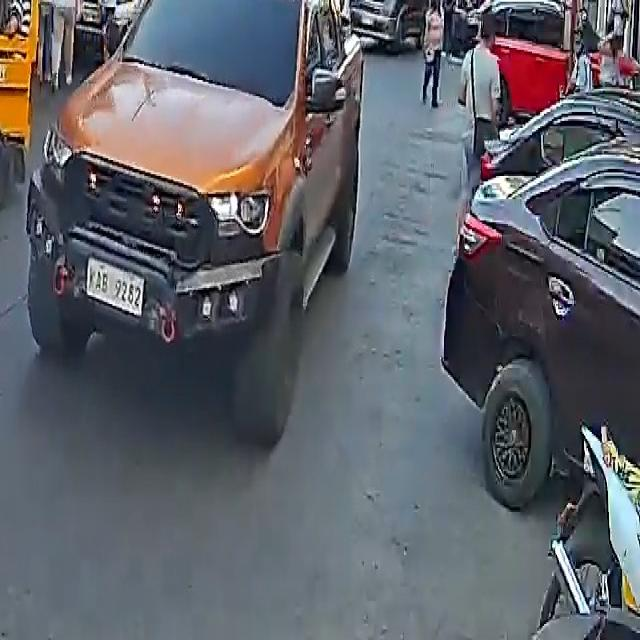car: (25, 0, 368, 380), (442, 67, 640, 540), (466, 0, 640, 135), (60, 0, 194, 39), (339, 0, 435, 48)
